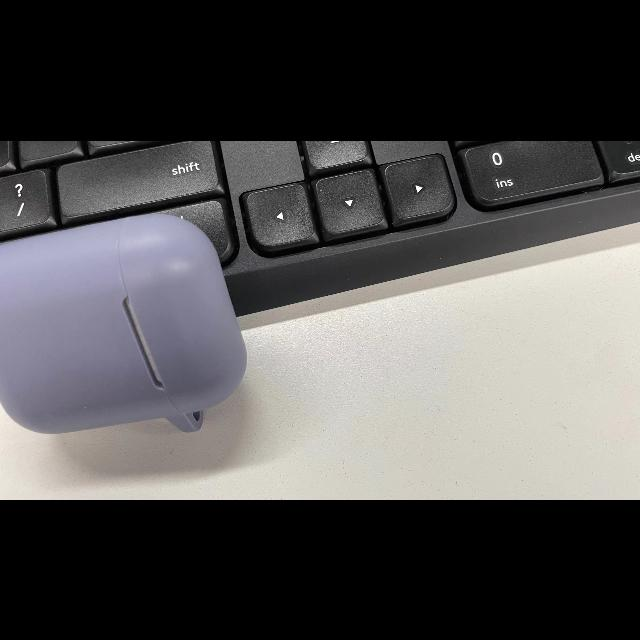airpods: (0, 213, 248, 434)
